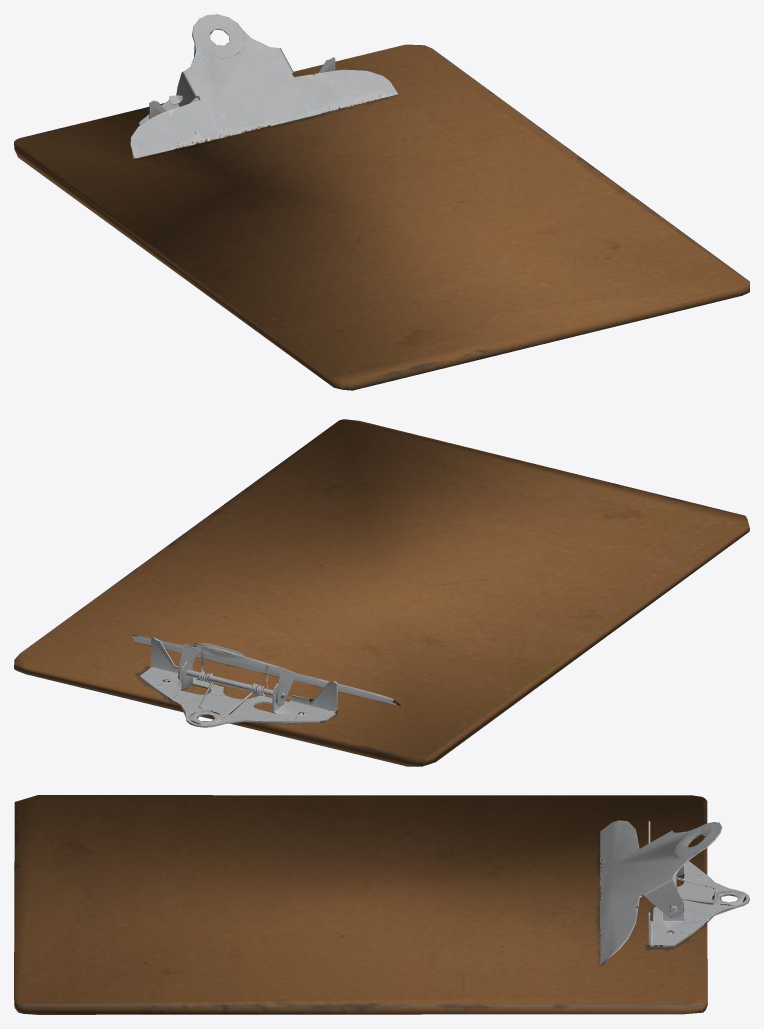
File: clipboard.glb
3 views of the same model, one above another, from view 1: azimuth 30°, elevation 25°; view 2: azimuth 150°, elevation 25°; view 3: azimuth 270°, elevation 25° (orthographic). The views are drawn at different scales.
Visible parts, largest first — view 1: clipboard; view 2: clipboard; view 3: clipboard.
Part boxes in pixels (left/top/right/bottom): clipboard: left=14, top=14, right=749, bottom=390; clipboard: left=14, top=419, right=749, bottom=766; clipboard: left=14, top=795, right=749, bottom=1014.
Size of the model in its own units: 0.2281 by 0.0417 by 0.3362.
1 material, 1 textured.
